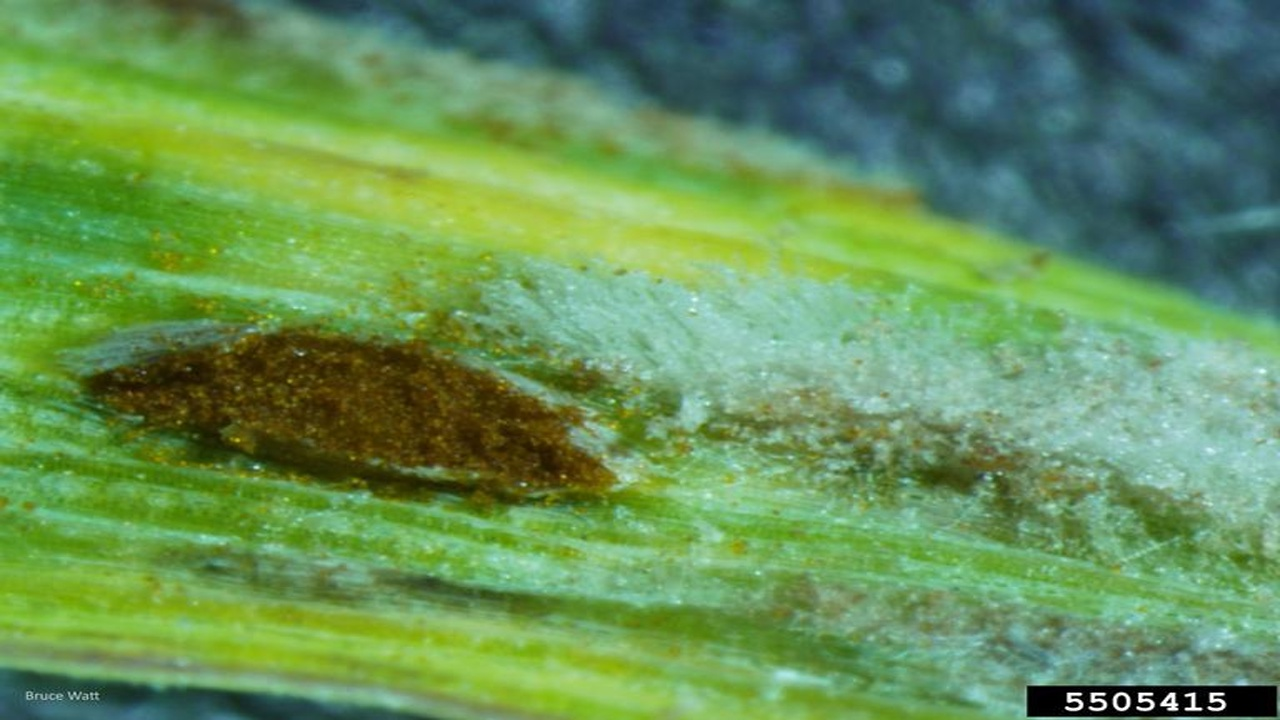leaf_rust: (1, 2, 1280, 686)
